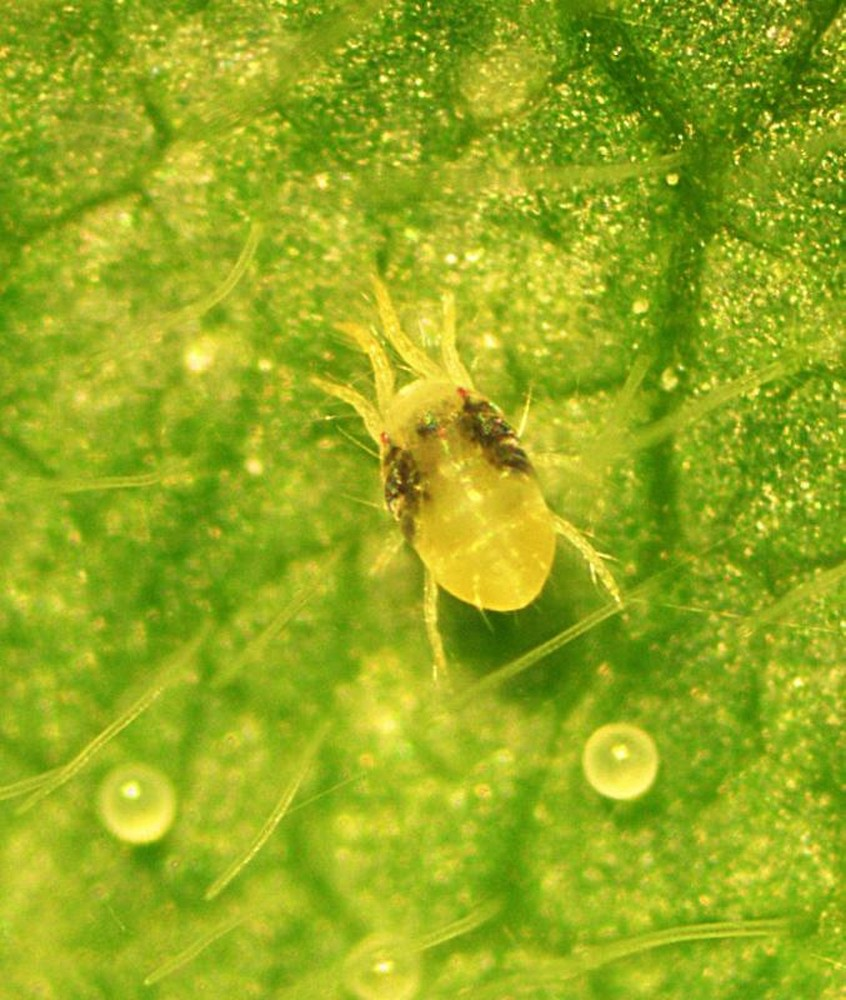Aracnido Rojo: (295, 267, 661, 690)
